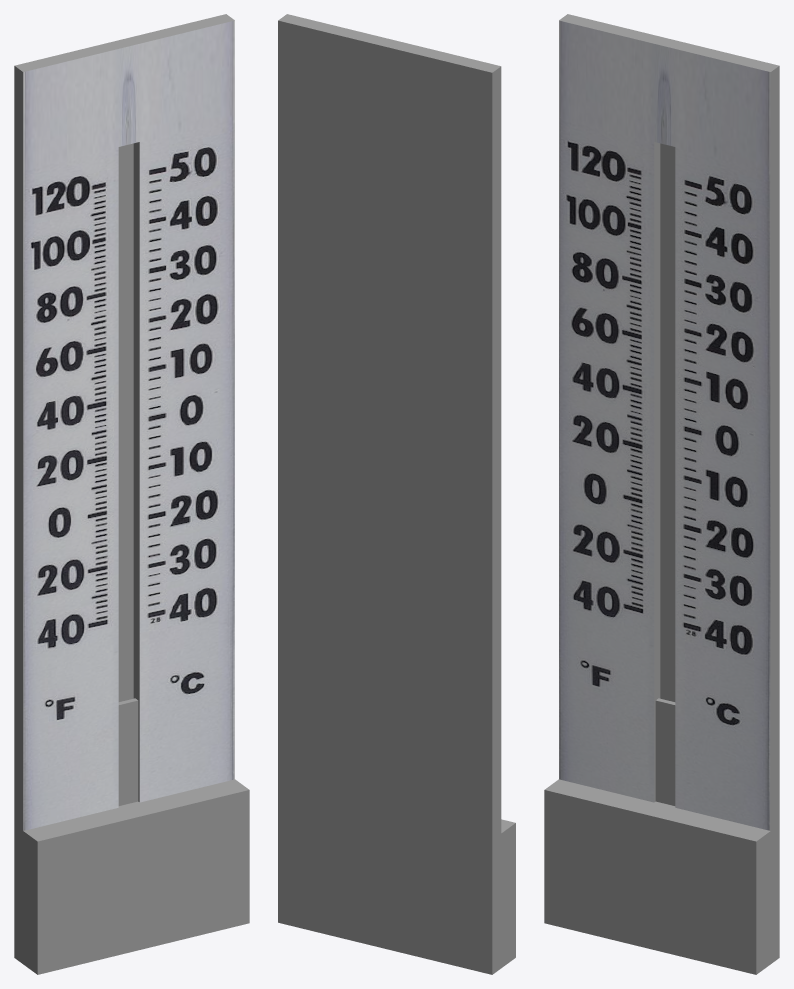
File: analog thermometer.fbx
The picture shows the model from 3 angles, left to right: view 1: azimuth 30°, elevation 25°; view 2: azimuth 150°, elevation 25°; view 3: azimuth 330°, elevation 25°; orthographic projection.
Visible parts, largest first — view 1: polySurface11, polySurface12; view 2: polySurface11; view 3: polySurface11, polySurface12.
Part boxes in pixels (bbox=[...]): polySurface11: bbox=[14, 14, 249, 974]; polySurface12: bbox=[118, 698, 138, 805]; polySurface11: bbox=[278, 14, 515, 974]; polySurface11: bbox=[544, 14, 779, 974]; polySurface12: bbox=[655, 698, 675, 805].
Size of the model in its own units: 4.85 by 19.51 by 0.9231.
